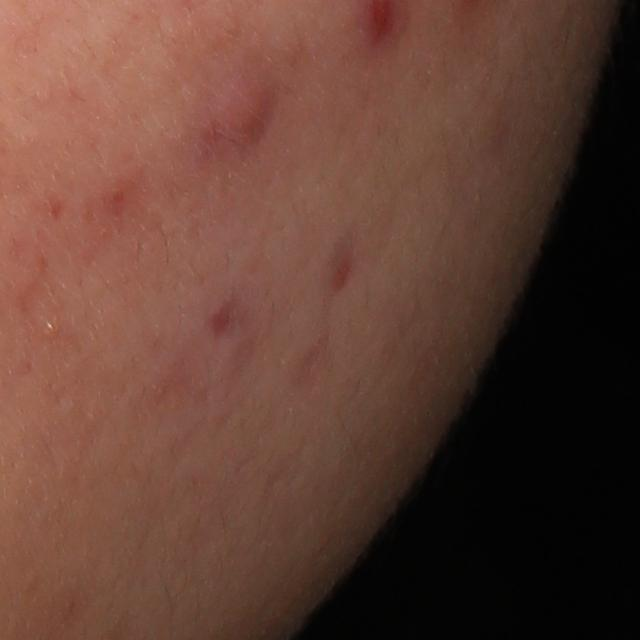comedo: (44, 316, 60, 338)
papule: (193, 58, 282, 158)
